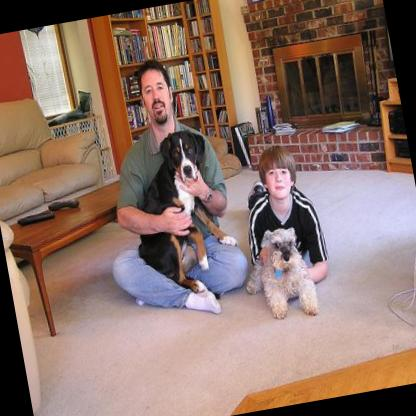Greater_Swiss_Mountain_dog: (116, 122, 243, 298)
